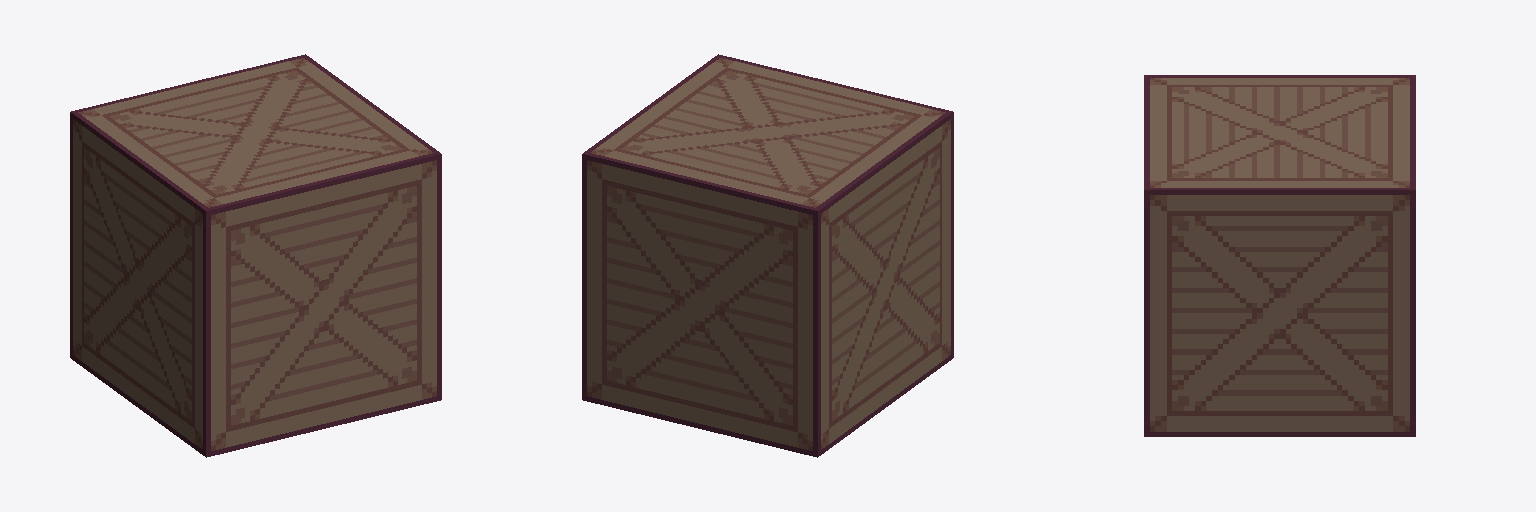
The picture shows the model from 3 angles: view 1: azimuth 30°, elevation 25°; view 2: azimuth 150°, elevation 25°; view 3: azimuth 270°, elevation 25°; orthographic projection.
Parts seen in each view (by area): view 1: Default; view 2: Default; view 3: Default.
Boxes of the visible parts, x1=… form: Default: x1=70, y1=54, x2=441, y2=457; Default: x1=582, y1=54, x2=953, y2=457; Default: x1=1144, y1=75, x2=1415, y2=436.
Bounding box in the file's own units: 3 × 3 × 3.
Materials: 1 (1 with a texture image).